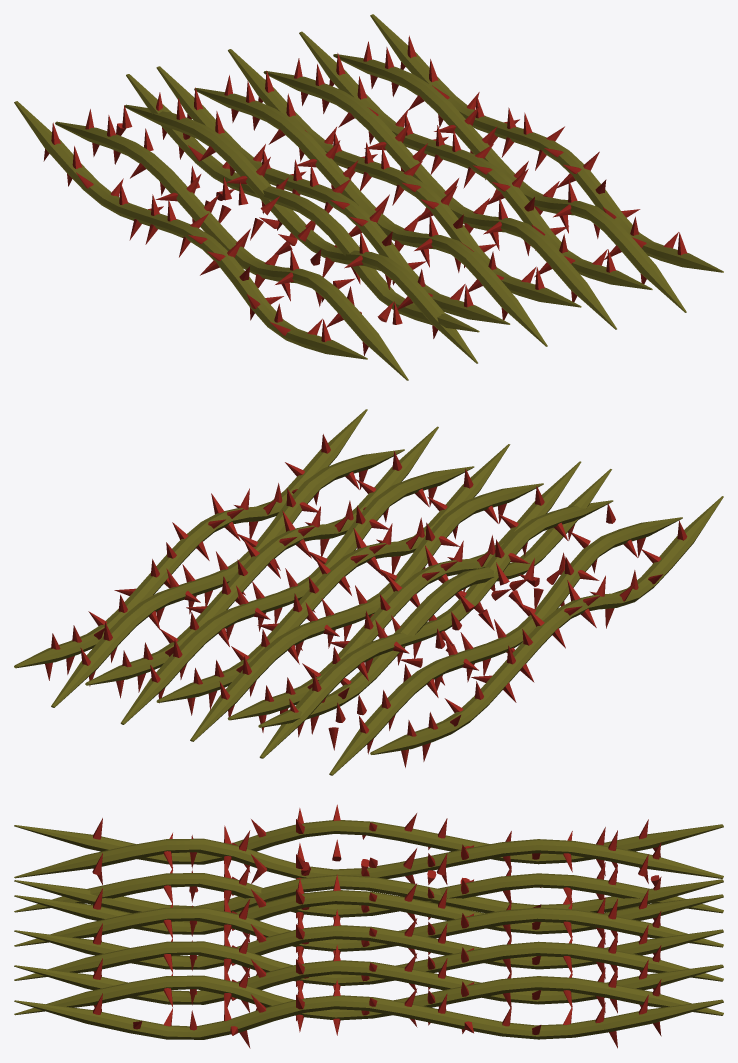
The model's file is Espinhos.fbx.
3 renders of one model, top to bottom at view 1: azimuth 30°, elevation 25°; view 2: azimuth 150°, elevation 25°; view 3: azimuth 270°, elevation 25°, orthographic.
Parts seen in each view (by area): view 1: Cipó (×11); view 2: Cipó (×11); view 3: Cipó (×11).
Boxes of the visible parts, x1=… form: Cipó (×11): x1=14, y1=14, x2=723, y2=380; Cipó (×11): x1=14, y1=409, x2=723, y2=775; Cipó (×11): x1=14, y1=820, x2=723, y2=1039.
Bounding box in the file's own units: 603 × 90.03 × 913.
